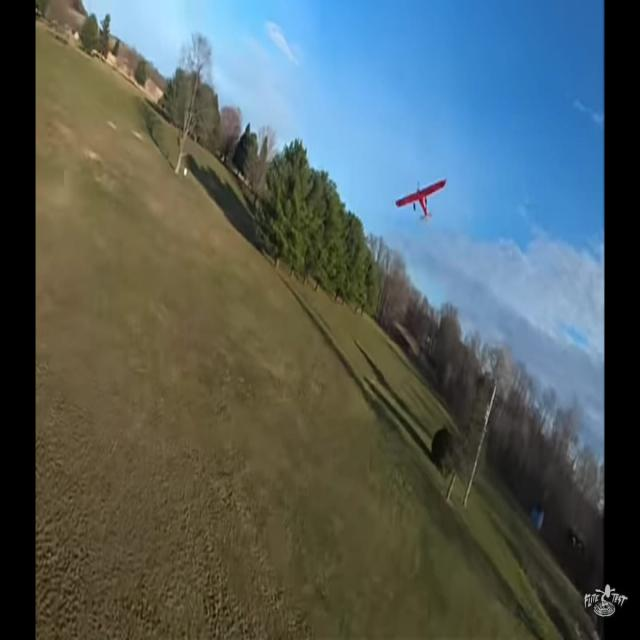iha: (394, 169, 447, 216)
